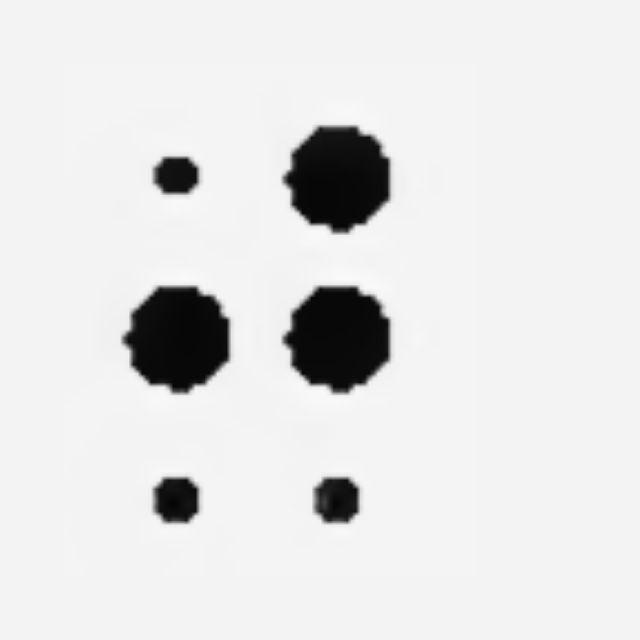hakbang: (124, 122, 394, 557)
